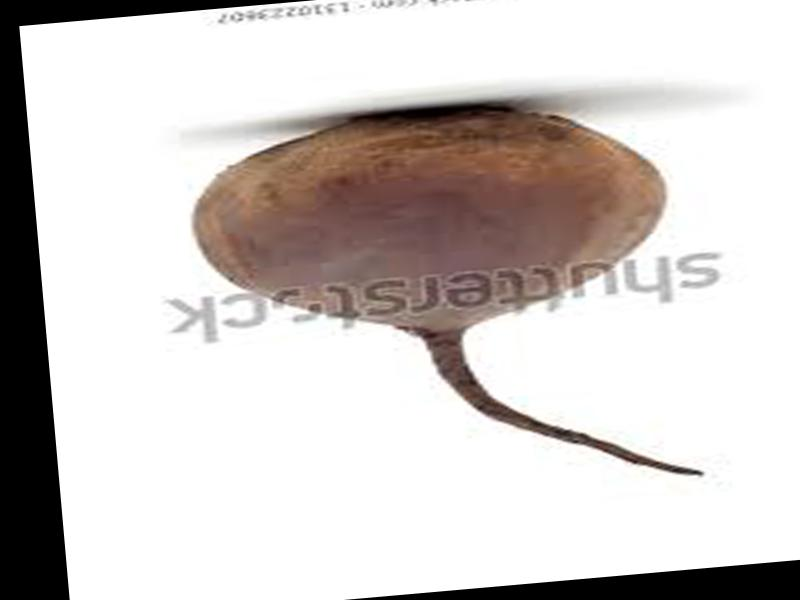Beet: (178, 86, 702, 519)
